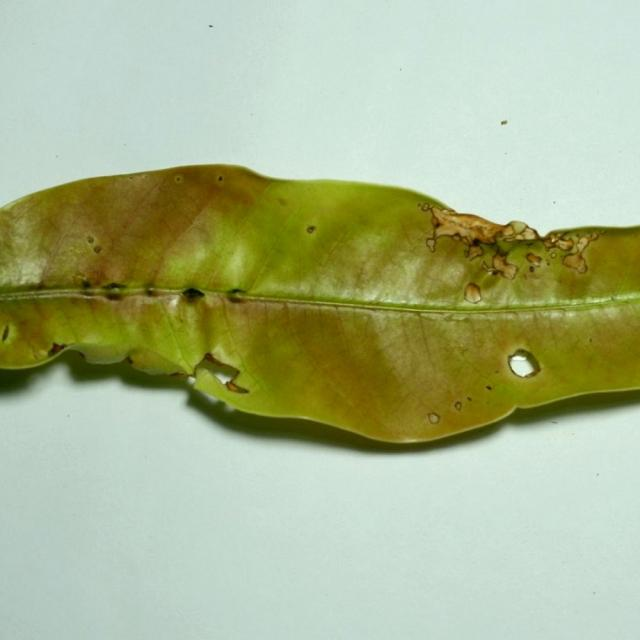Anthracnose: (188, 339, 255, 410), (451, 249, 504, 325), (494, 333, 557, 395), (81, 265, 138, 318), (438, 227, 491, 280), (548, 247, 593, 295), (499, 252, 556, 286), (138, 277, 175, 321), (193, 289, 265, 308)
Mango: (0, 165, 639, 450)
